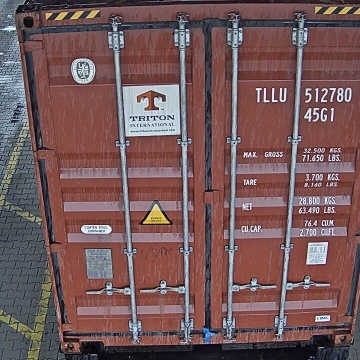serial_id: (256, 87, 360, 102)
